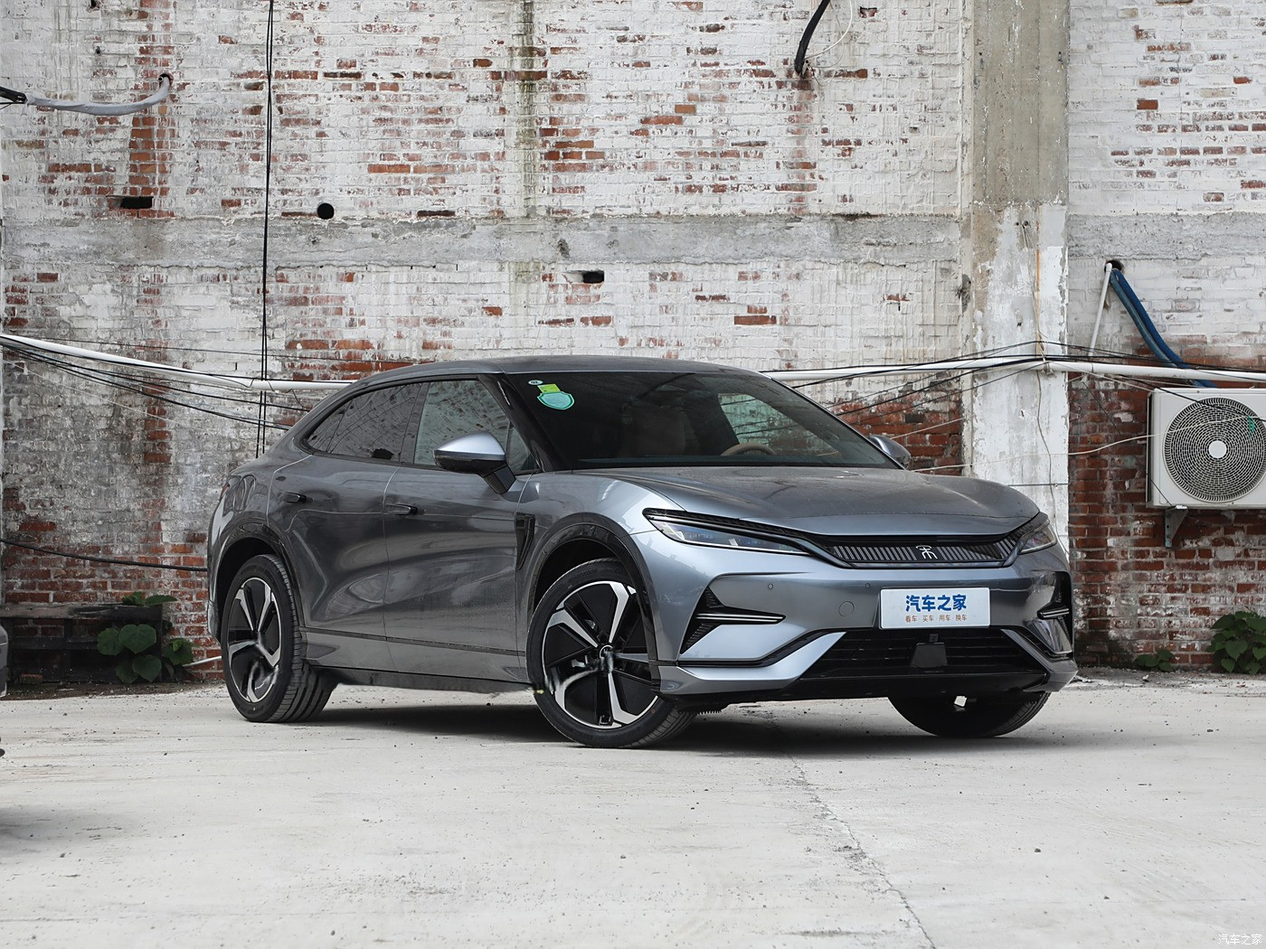BYD Song: (916, 543, 937, 559)
